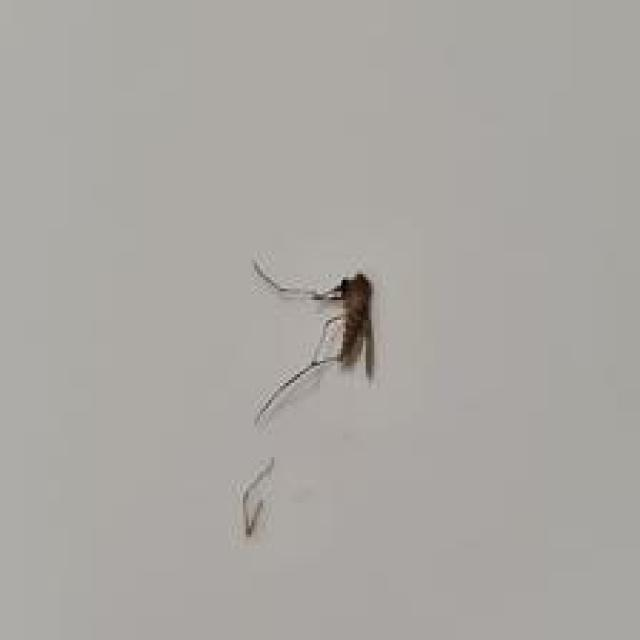Culex: (249, 253, 377, 427)
